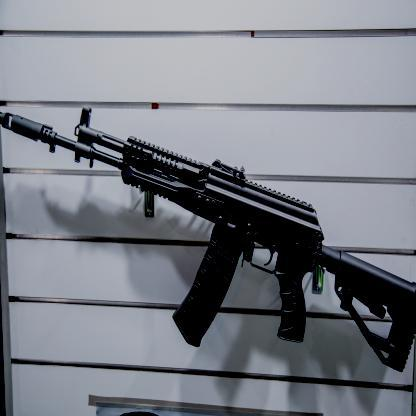rifle: (2, 83, 416, 385)
